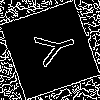Y: (24, 25, 79, 72)
